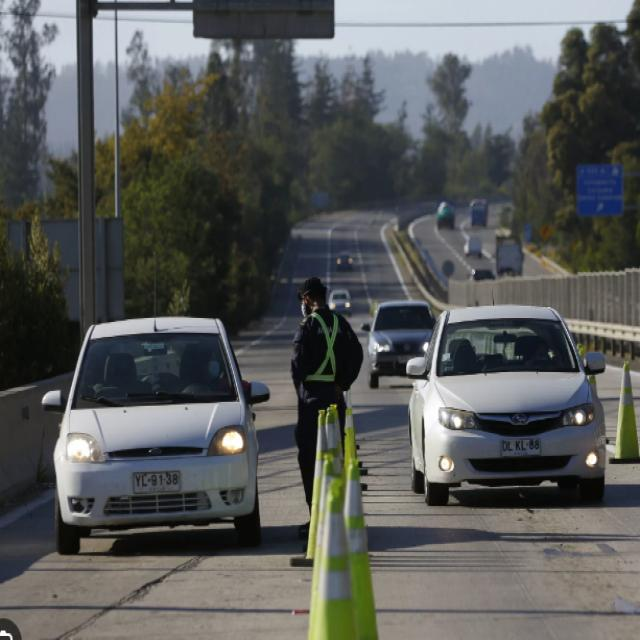patente: (130, 468, 182, 494), (499, 436, 541, 457)
